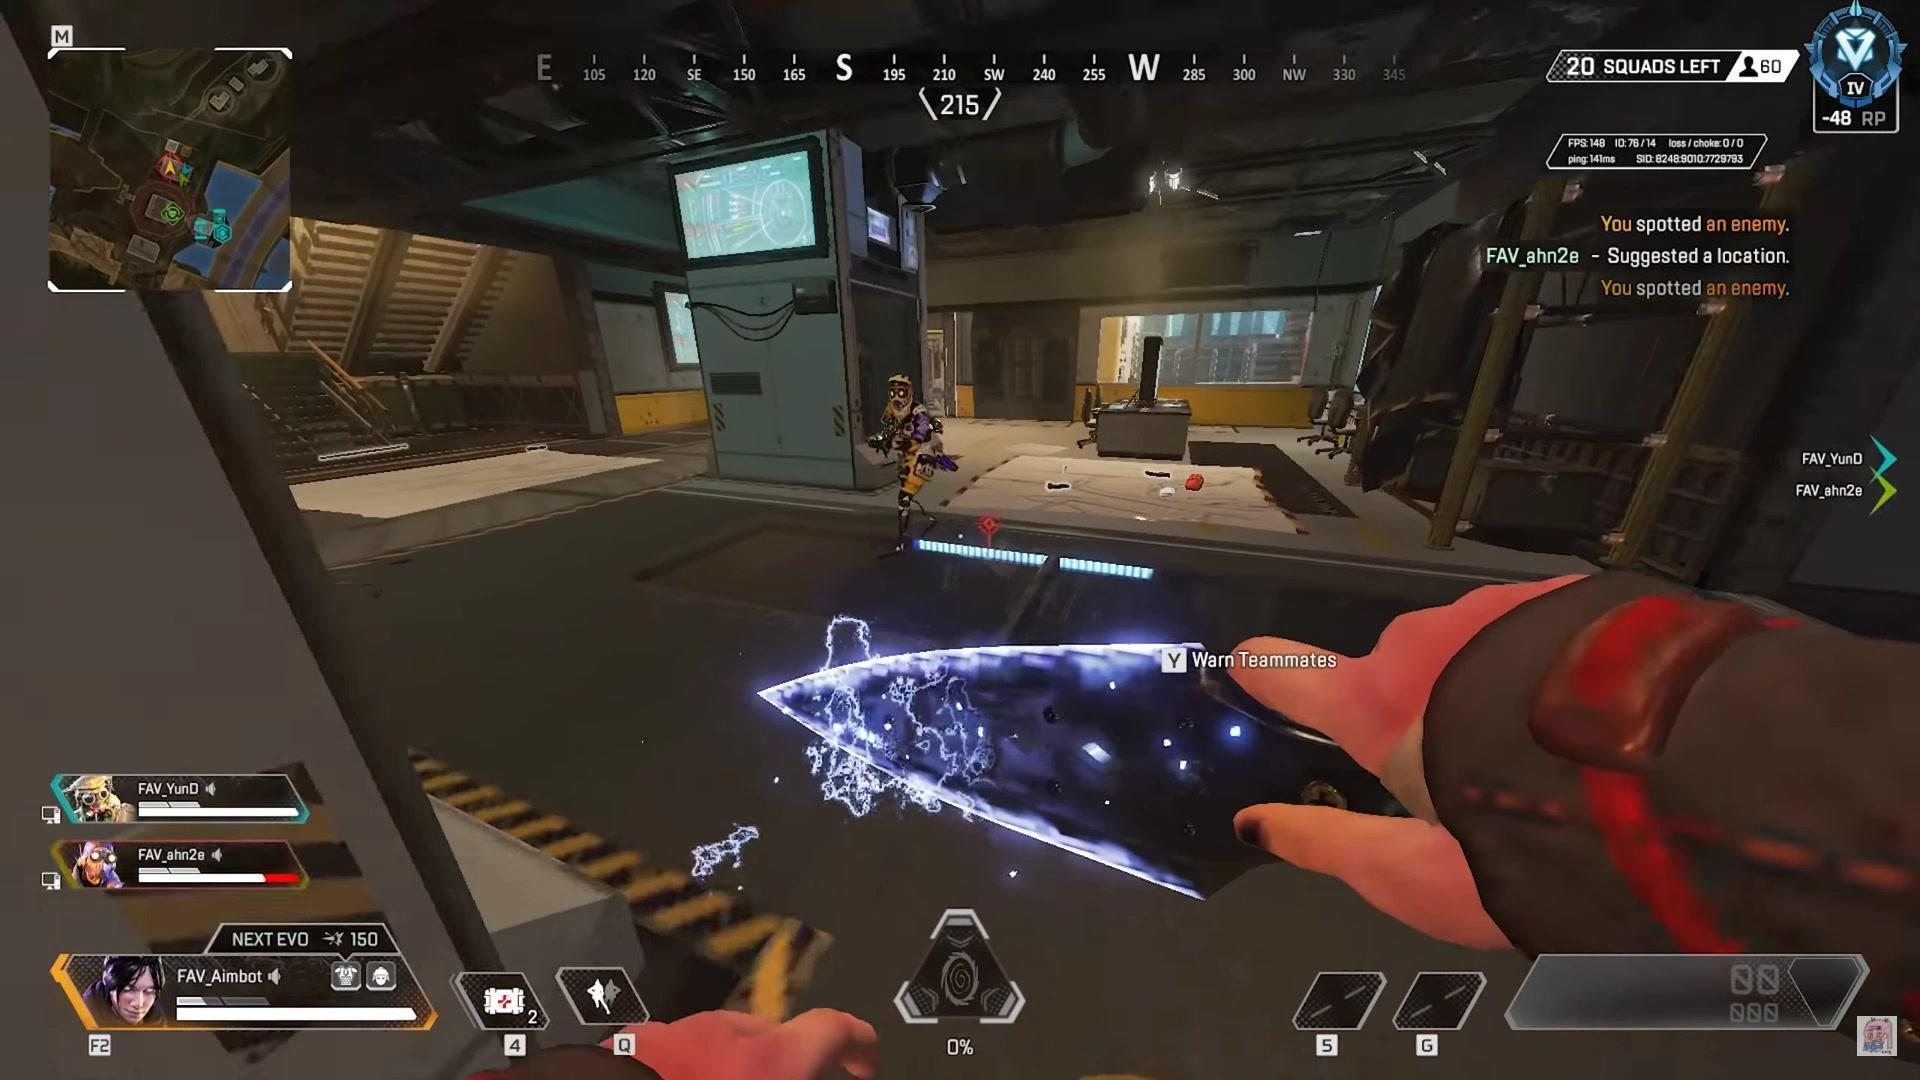avatar: (872, 371, 944, 558)
